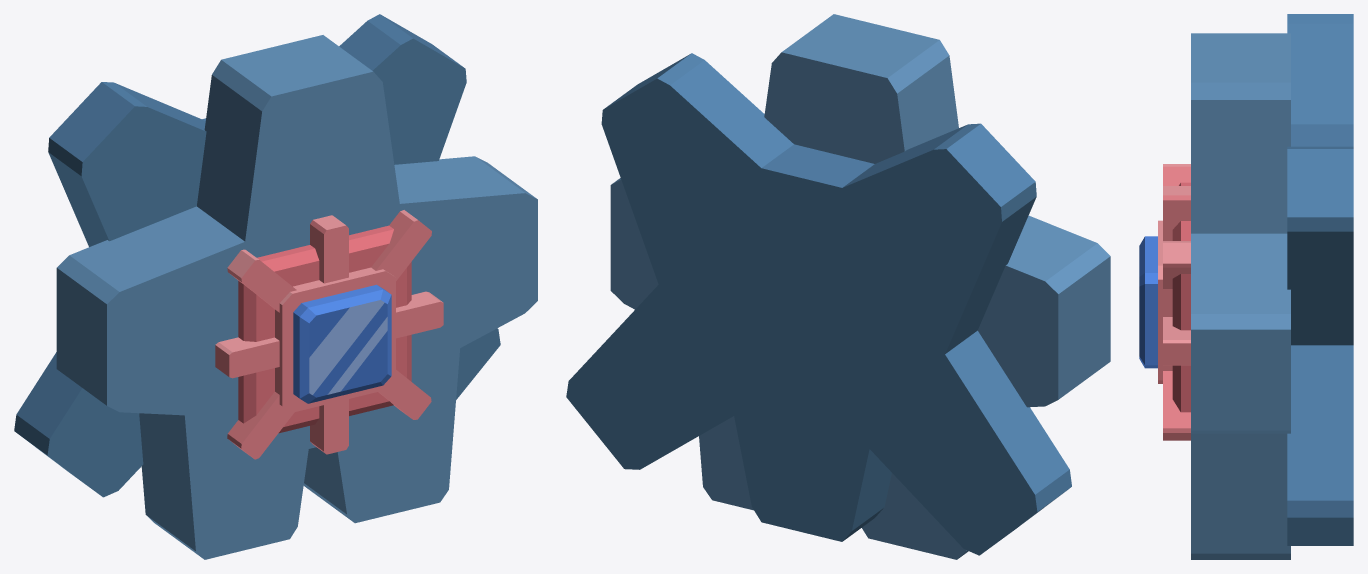
The model's file is model_shiny.obj.
3 renders of one model, left to right at view 1: azimuth 30°, elevation 25°; view 2: azimuth 150°, elevation 25°; view 3: azimuth 270°, elevation 25°, orthographic. The views are drawn at different scales.
Visible parts, largest first — view 1: 0121_starmie_shiny; view 2: 0121_starmie_shiny; view 3: 0121_starmie_shiny.
Part boxes in pixels (left/top/right/bottom): 0121_starmie_shiny: left=14, top=14, right=537, bottom=559; 0121_starmie_shiny: left=566, top=14, right=1110, bottom=559; 0121_starmie_shiny: left=1139, top=14, right=1353, bottom=559.
Bounding box in the file's own units: 2.92 × 2.75 × 1.2.
Materials: 1 (1 with a texture image).
